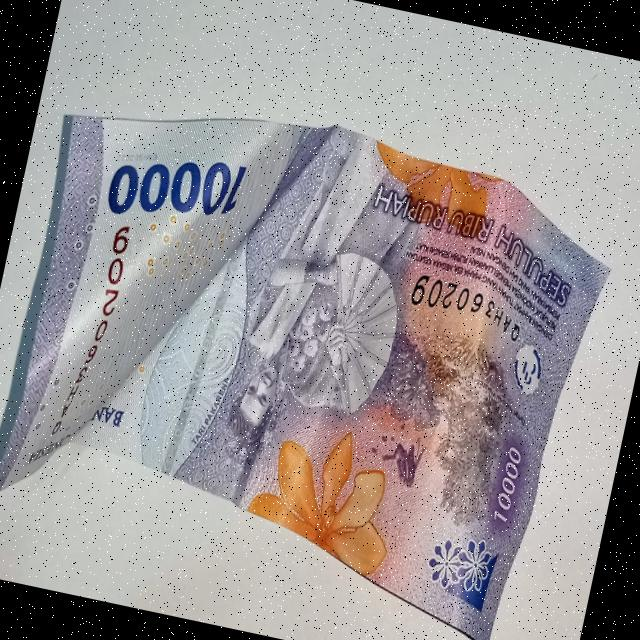10K: (0, 61, 635, 640)
